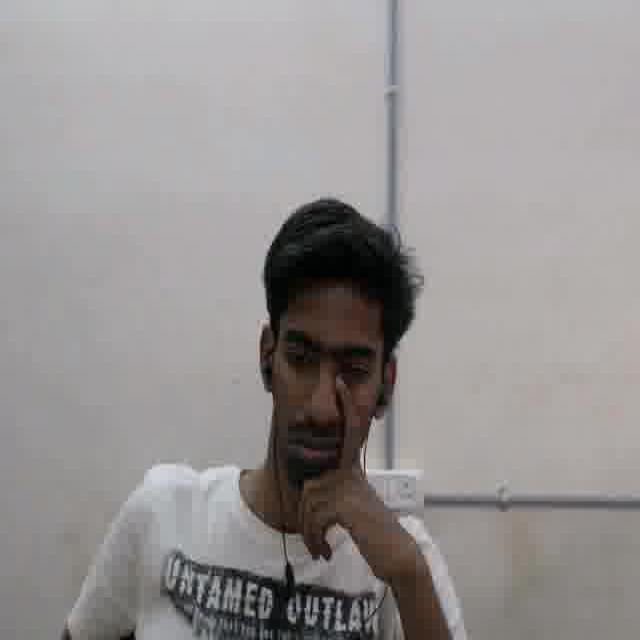Boredom: (266, 280, 383, 487)
